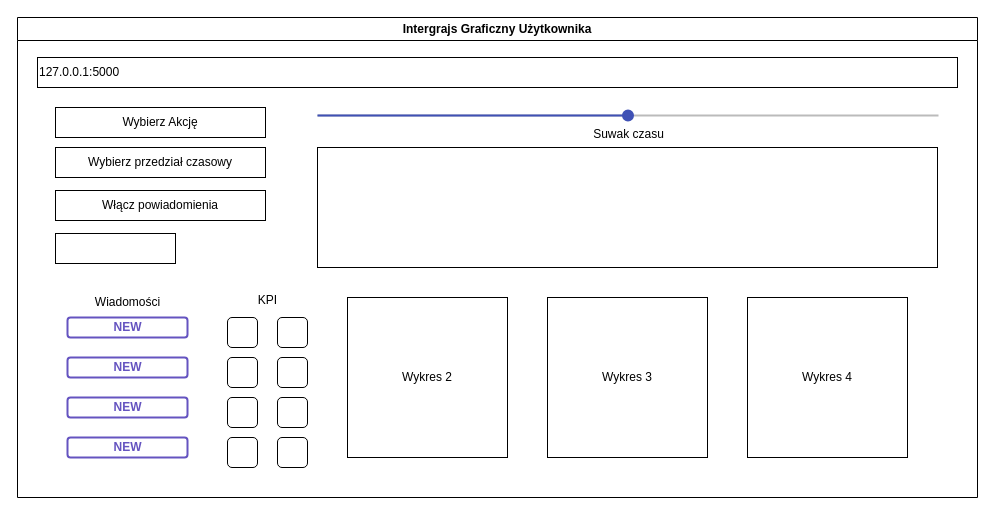
Image size: 995x515. Some labels were removed from this diagram. The centre of each missing label's shape, as x and y in pixels:
"Aktualizacja danych" goes at point (115, 248).
"Wykres 1" goes at point (627, 207).
